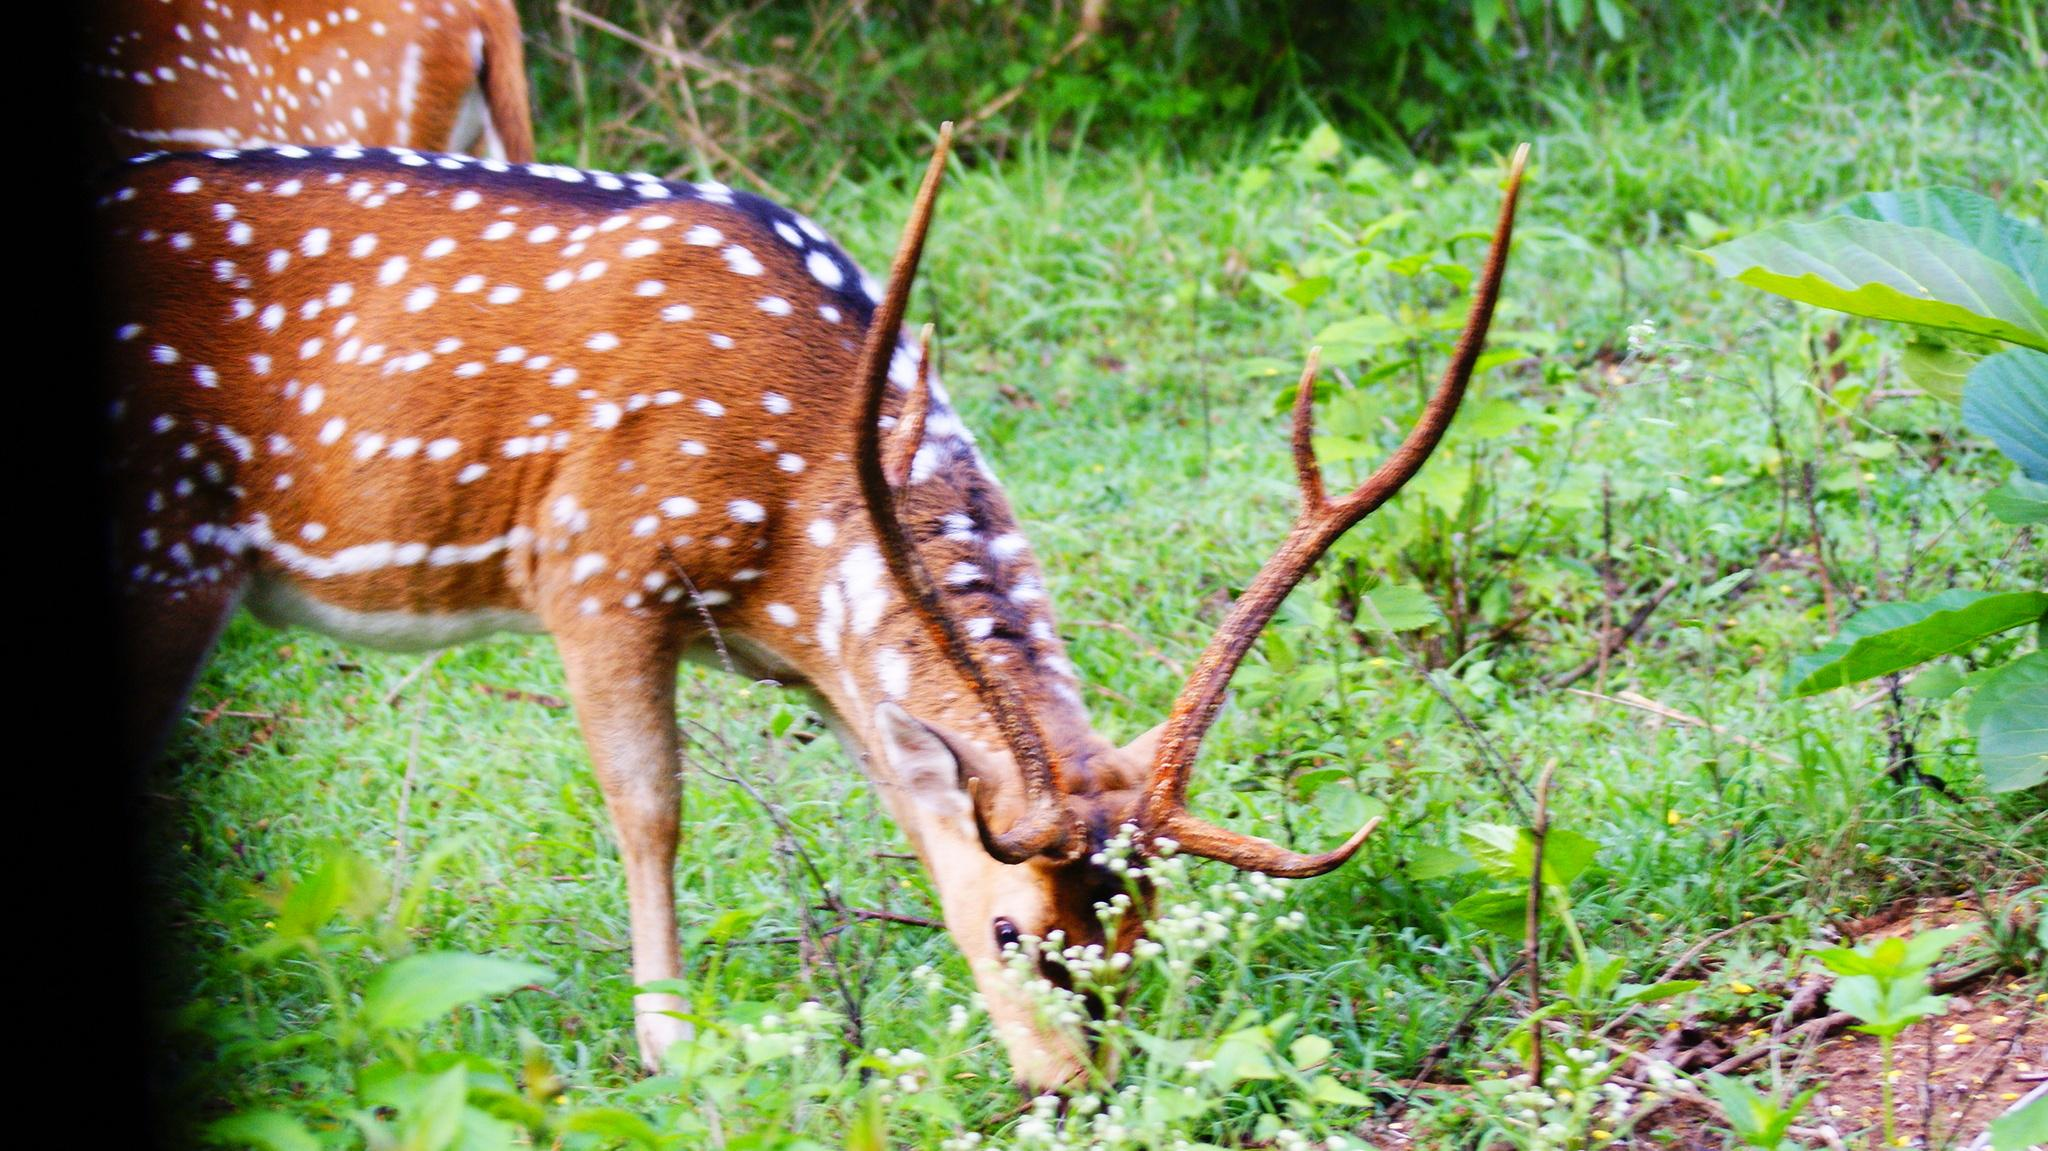Deer: (121, 146, 1523, 1088)
